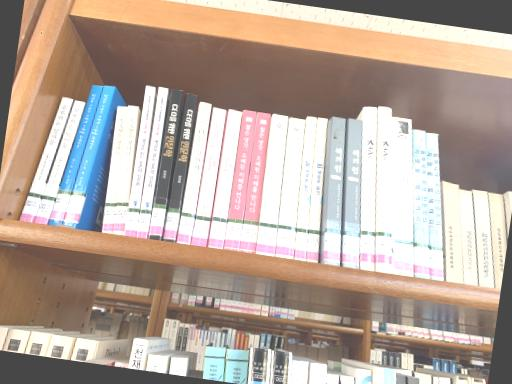book-spine: (47, 85, 104, 225), (62, 86, 116, 226), (18, 97, 73, 222), (33, 99, 85, 224), (161, 93, 197, 243), (148, 88, 183, 240), (191, 107, 227, 247), (177, 101, 212, 244), (208, 108, 243, 249), (136, 86, 168, 239), (223, 109, 257, 251), (256, 113, 289, 256), (125, 85, 156, 237), (240, 111, 271, 253), (275, 117, 305, 259), (392, 116, 415, 276), (294, 115, 317, 261), (102, 106, 128, 234), (323, 116, 345, 266), (113, 105, 138, 235), (306, 117, 328, 262), (360, 106, 378, 270), (343, 118, 362, 269), (376, 106, 392, 274), (427, 132, 444, 281), (413, 129, 429, 278)
